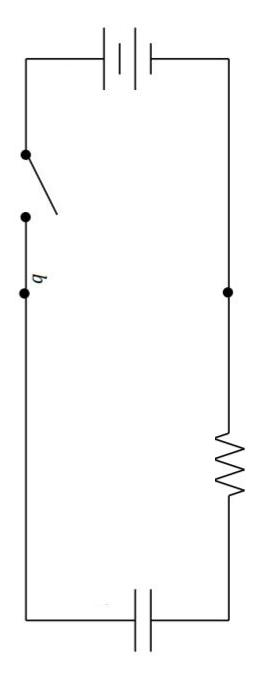resistor: (197, 404, 246, 515)
